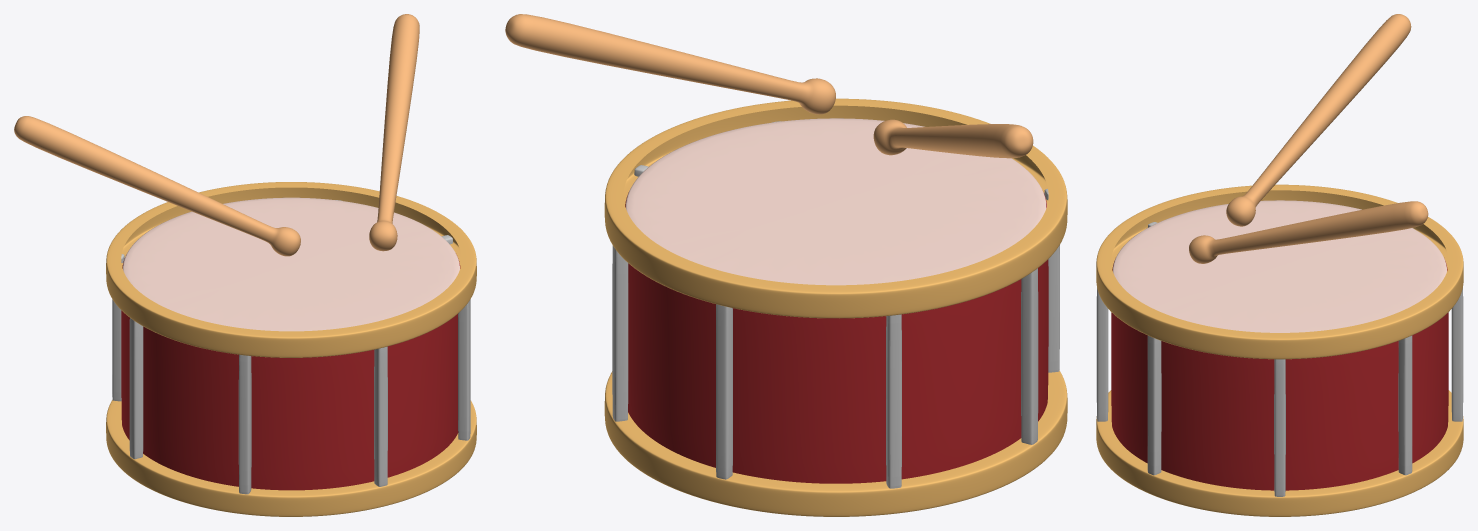
Rendered from ToyDrum.fbx.
3 views of the same model, side by side, from view 1: azimuth 30°, elevation 25°; view 2: azimuth 150°, elevation 25°; view 3: azimuth 270°, elevation 25° (orthographic). The views are drawn at different scales.
Parts seen in each view (by area): view 1: Cylinder, Cylinder.001, Cube, Cube.003, Cube.002, Cube.001; view 2: Cylinder, Cylinder.001, Cube.003, Cube.002, Cube.001, Cube; view 3: Cylinder, Cylinder.001, Cube, Cube.003, Cube.001, Cube.002.
Boxes of the visible parts, x1,y1,x2,y2 form: Cylinder: (121,197,460,490); Cylinder.001: (106,182,476,516); Cube: (14,116,300,256); Cube.003: (369,14,419,251); Cube.002: (112,200,470,494); Cube.001: (129,235,452,486); Cylinder: (625,118,1048,483); Cylinder.001: (604,98,1067,516); Cube.003: (505,14,835,114); Cube.002: (612,121,1059,488); Cube.001: (634,165,1038,479); Cube: (873,119,1033,158); Cylinder: (1111,200,1448,490); Cylinder.001: (1096,184,1463,516); Cube: (1226,14,1411,226); Cube.003: (1189,201,1428,263); Cube.001: (1096,288,1463,496); Cube.002: (1147,222,1412,475).
Size of the model in its own units: 524 by 401 by 409.
